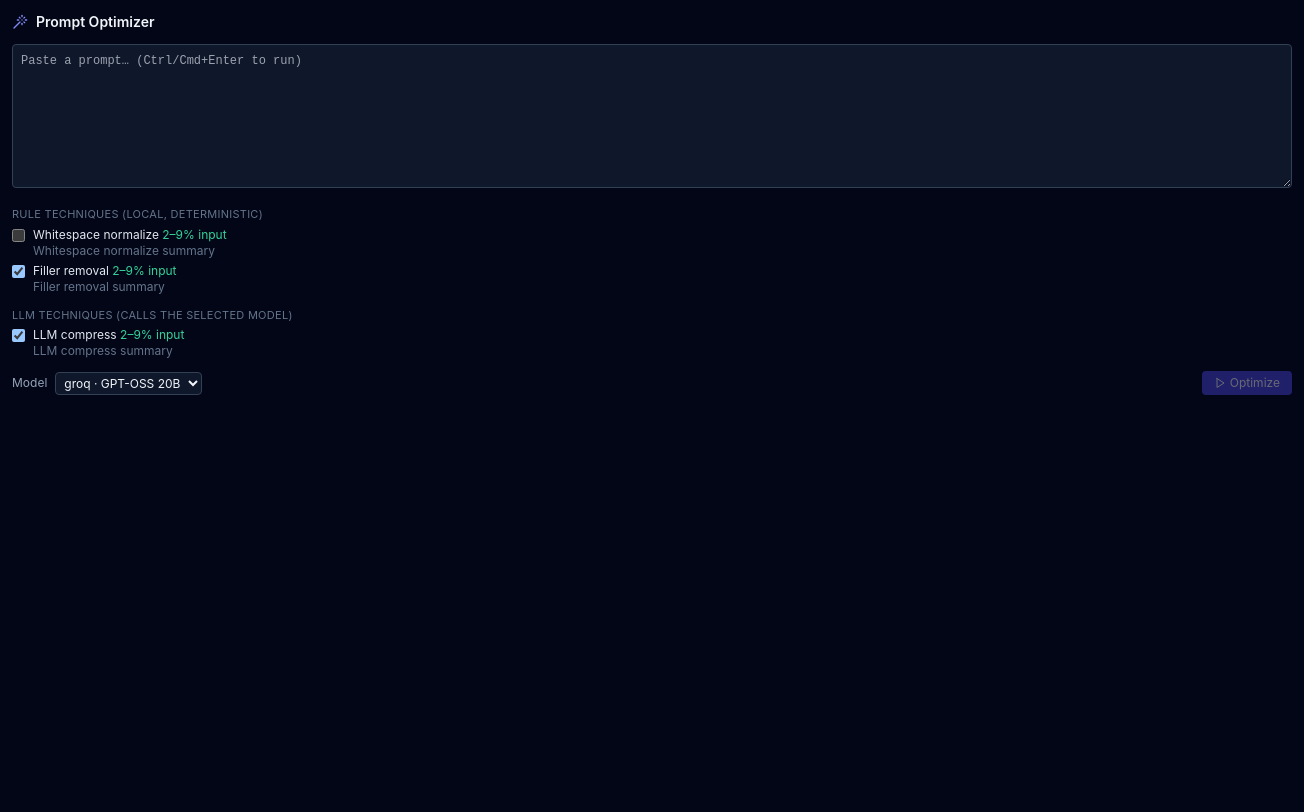
it: PromptOptimizerView › sends promptopt/run in catalog order on Ctrl+Enter and renders the result
Type "Please do it." into the text box labelled "prompt" at point(652, 116), box [12, 44, 1292, 188]
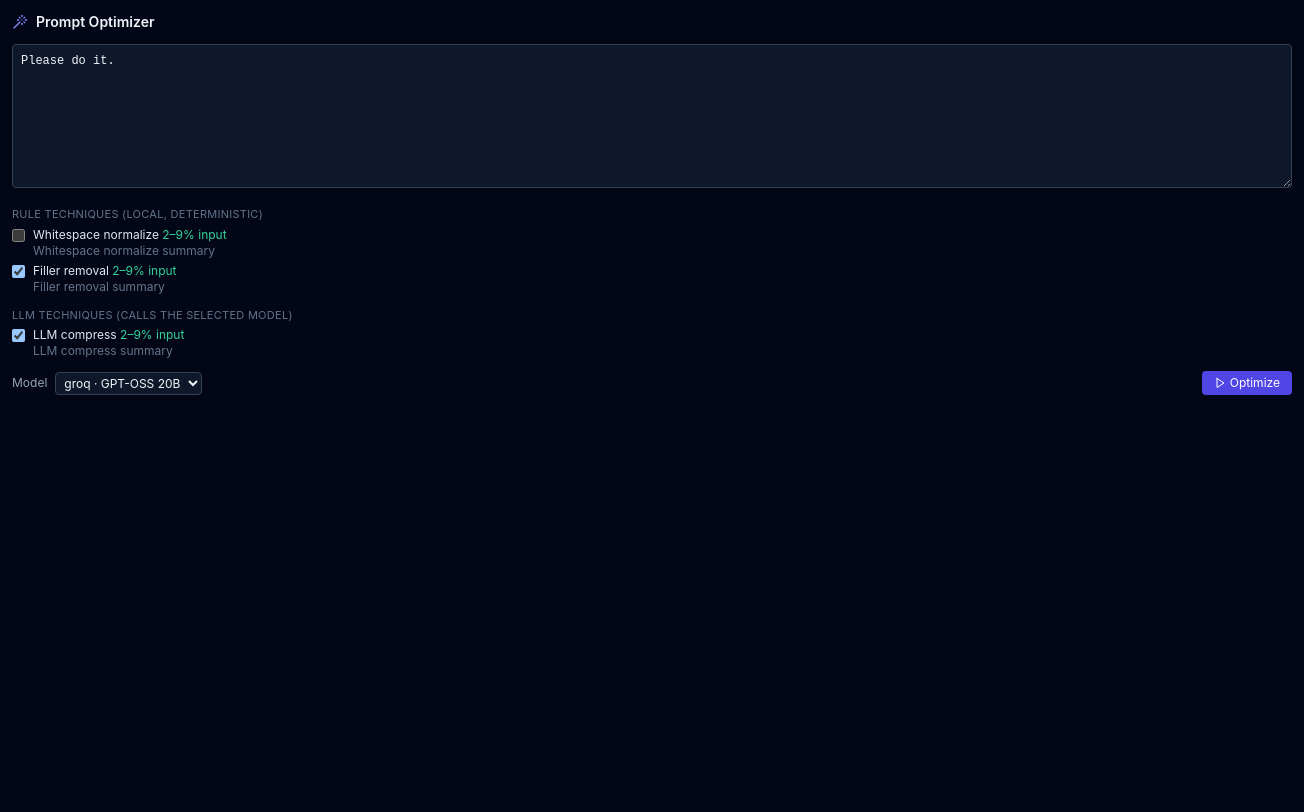
Press Enter in the text box named "prompt", box [12, 44, 1292, 188]
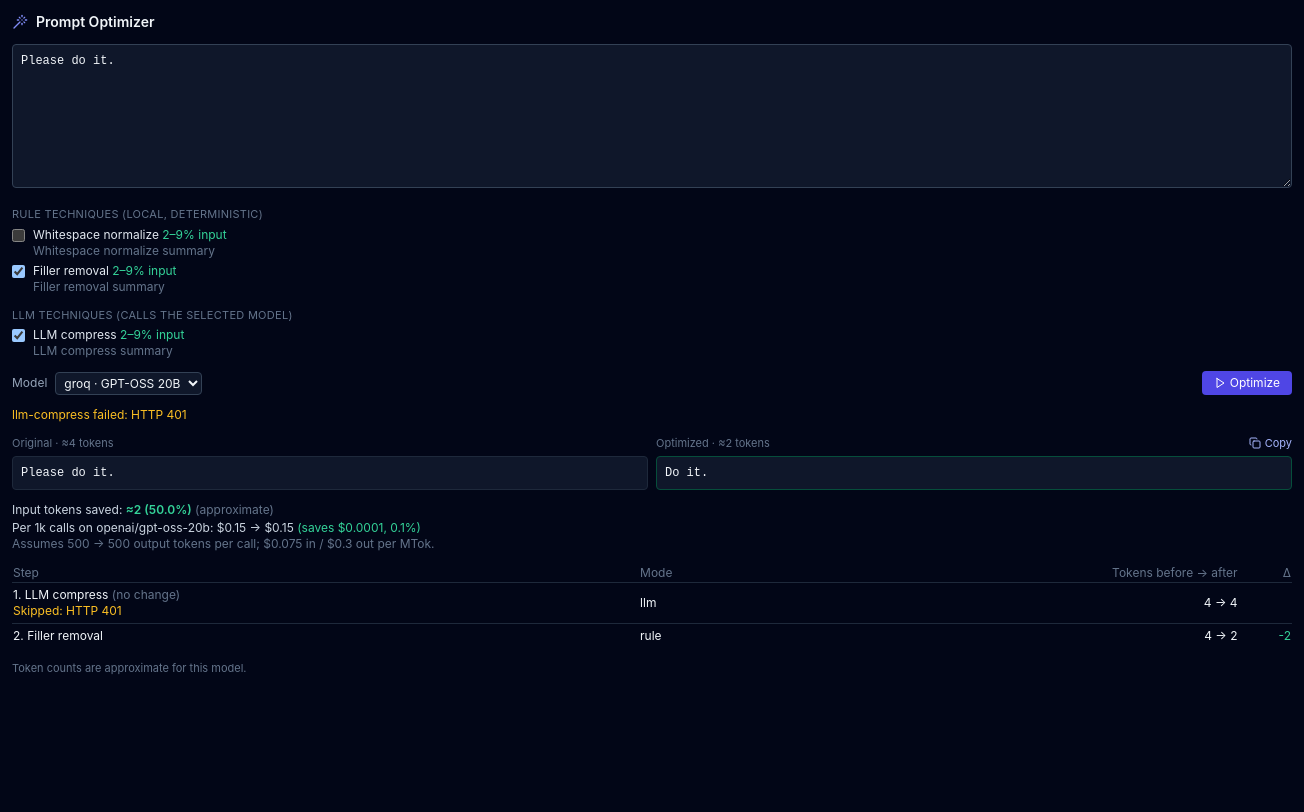
expect the text with test id "promptopt-optimized" reads "Do it.": met, box [665, 466, 708, 480]
expect the element with test id "promptopt-totals" shows "≈2 (50.0%)": met, box [12, 502, 434, 550]
expect the element with test id "promptopt-totals" shows "Per 1k calls on openai/gpt-oss-20b": met, box [12, 502, 434, 550]
